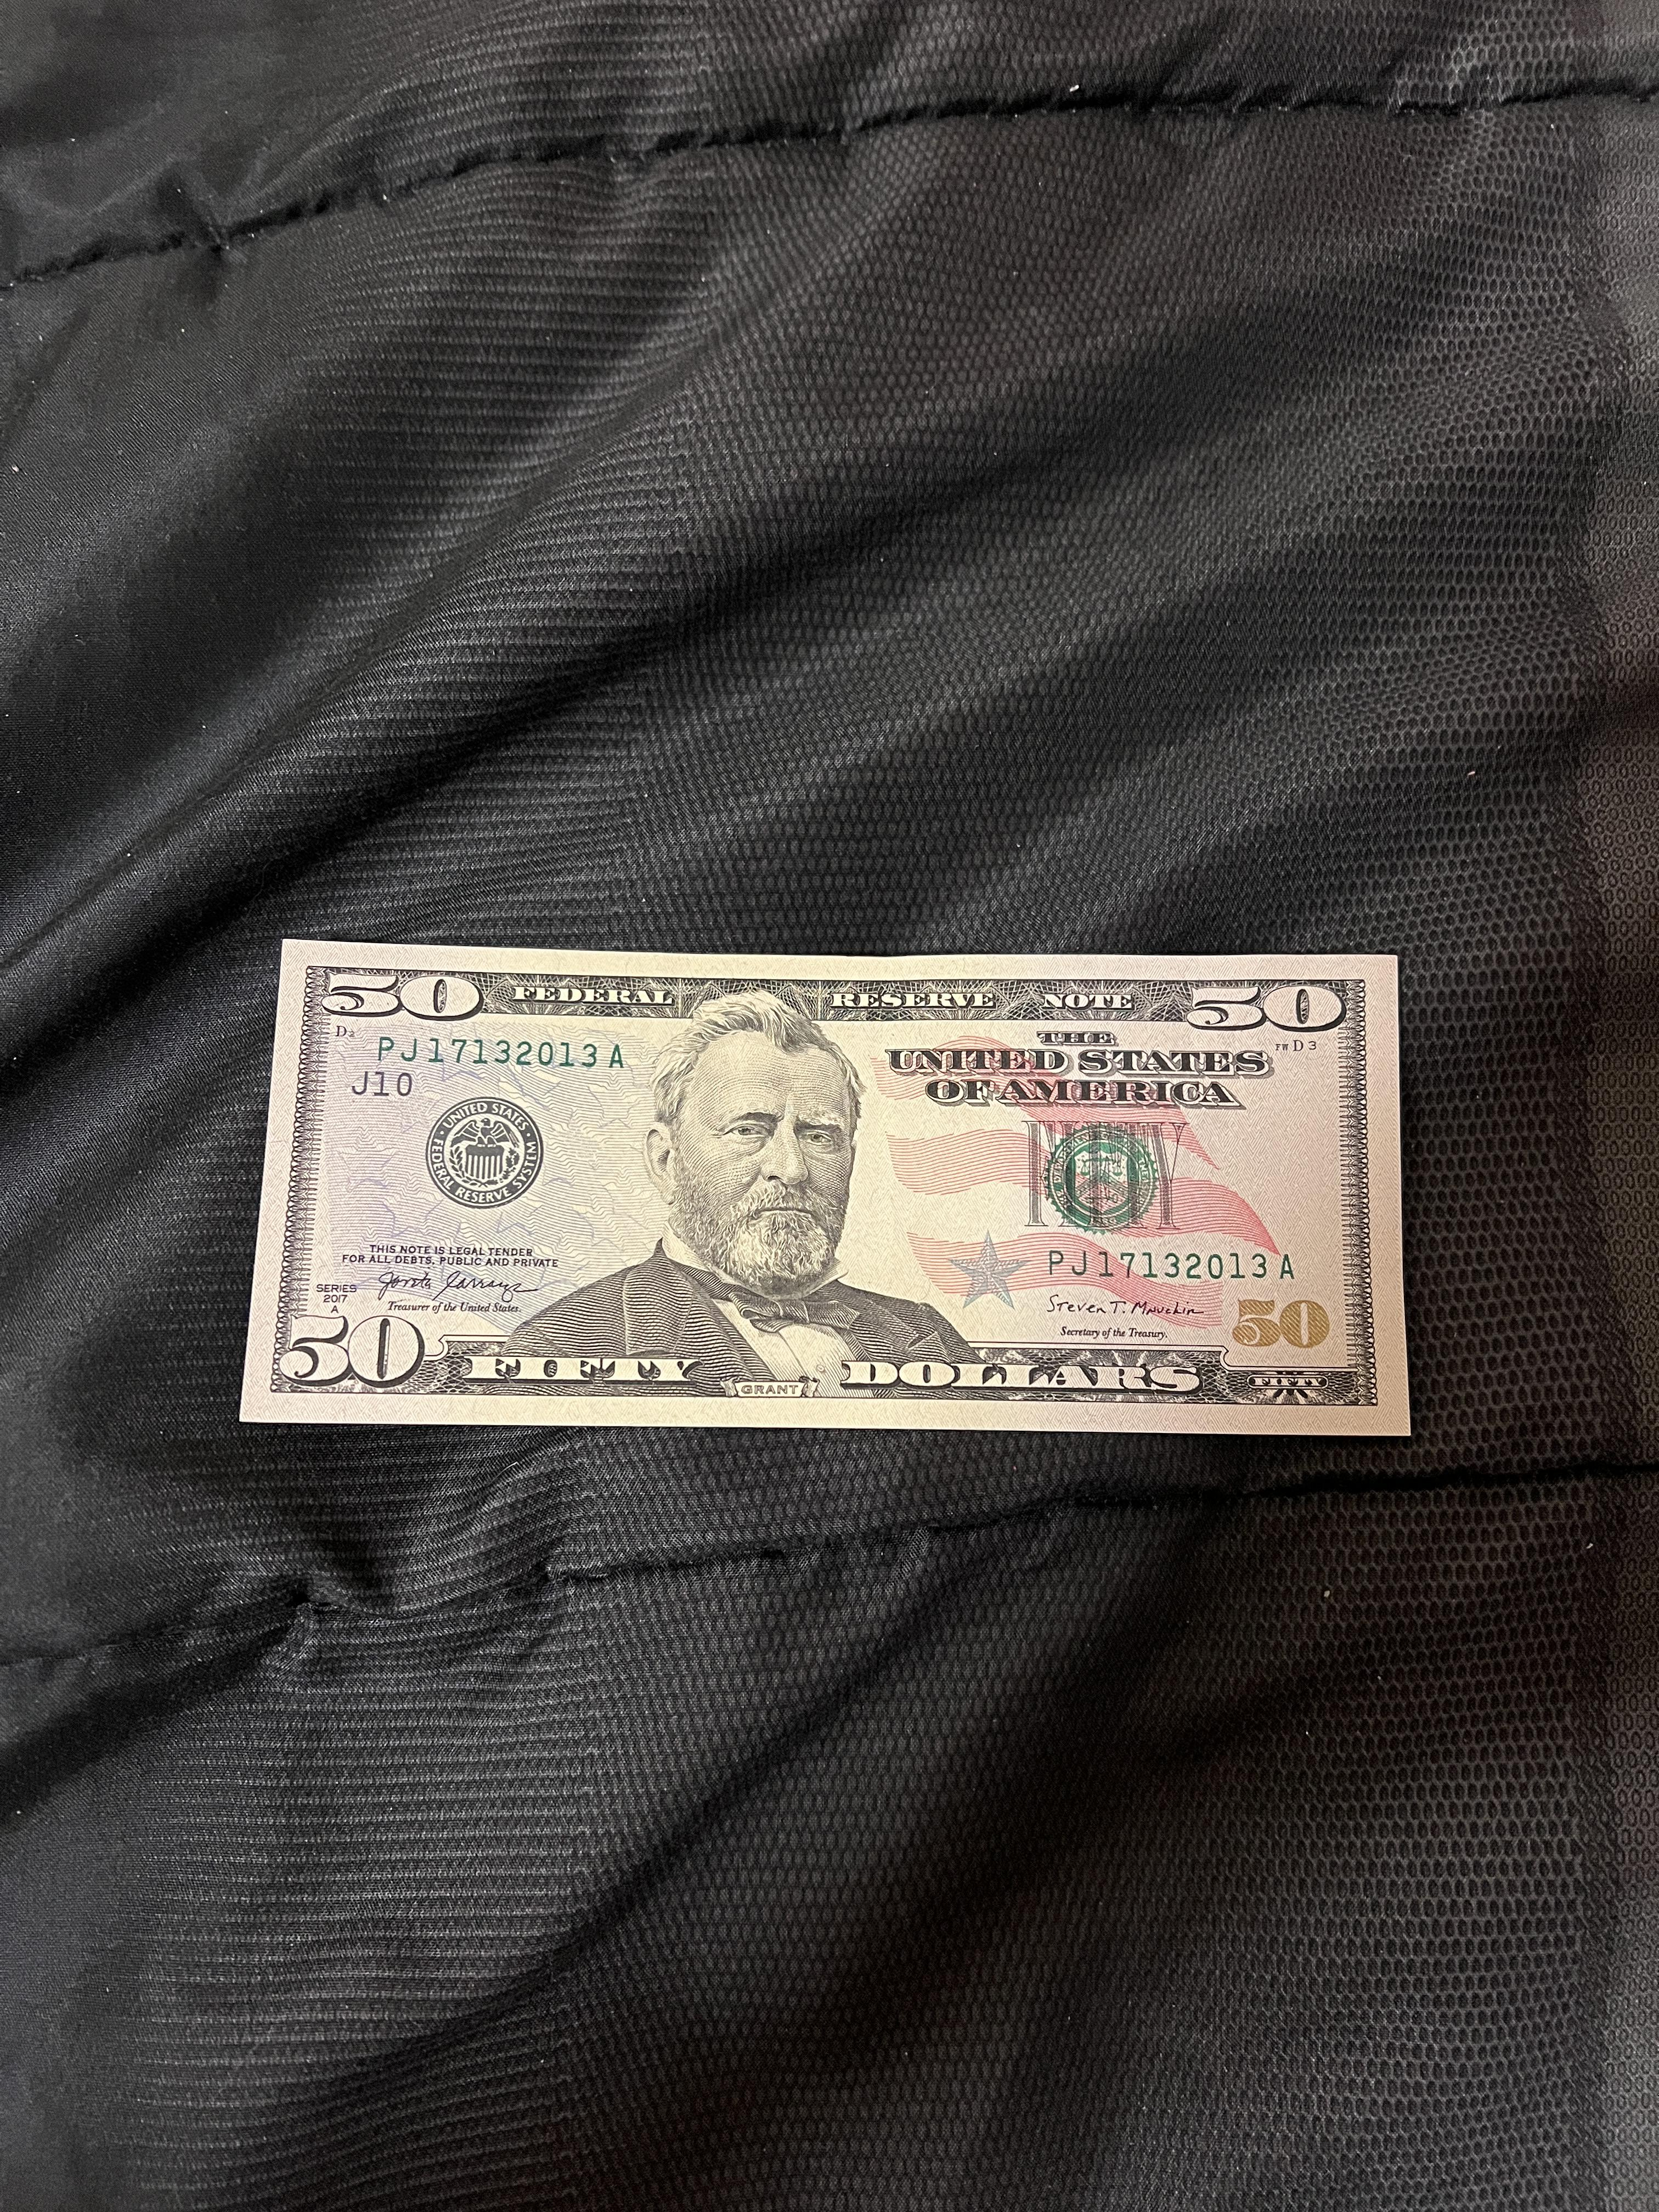FiftyBill: (232, 925, 1429, 1444)
